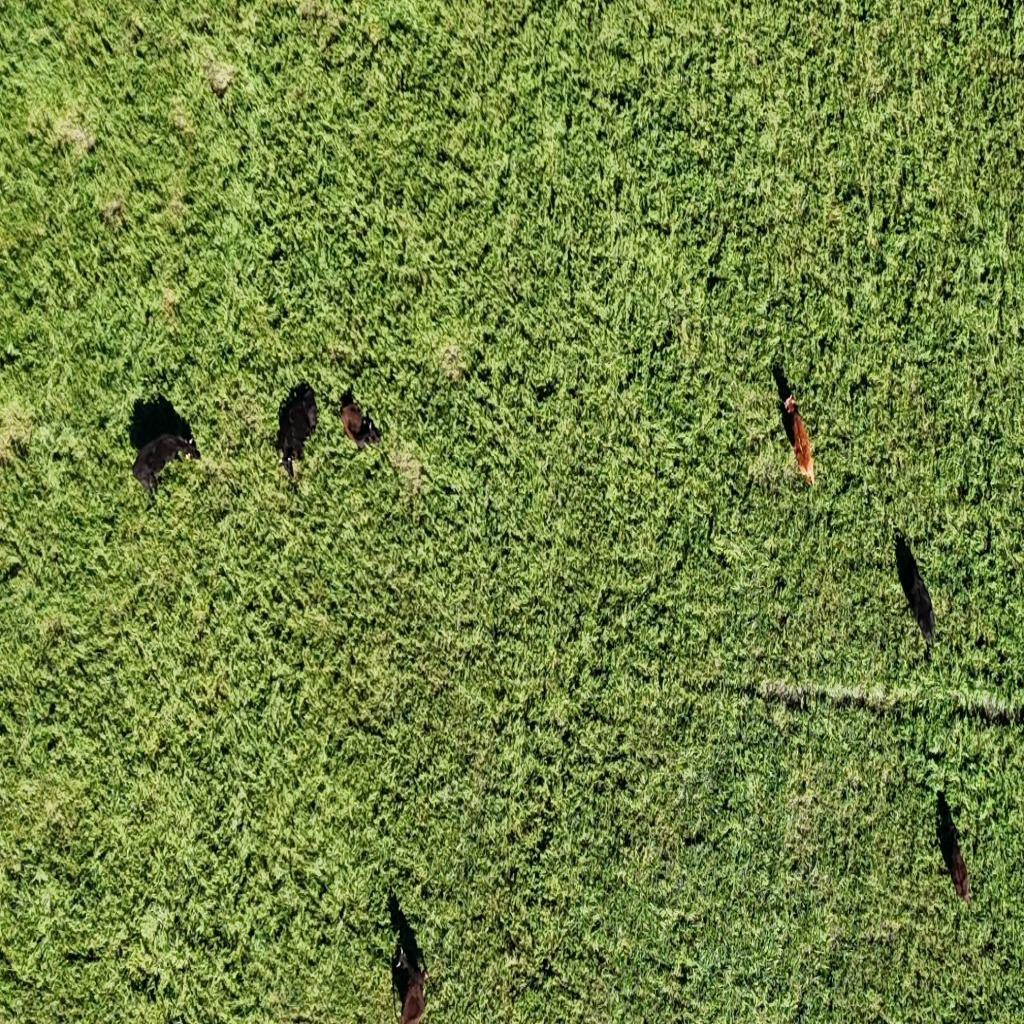cow: (129, 396, 203, 499), (879, 508, 938, 625), (387, 890, 436, 1024), (273, 376, 323, 482), (934, 790, 974, 906), (338, 388, 382, 453), (786, 412, 818, 492), (772, 363, 800, 425)
